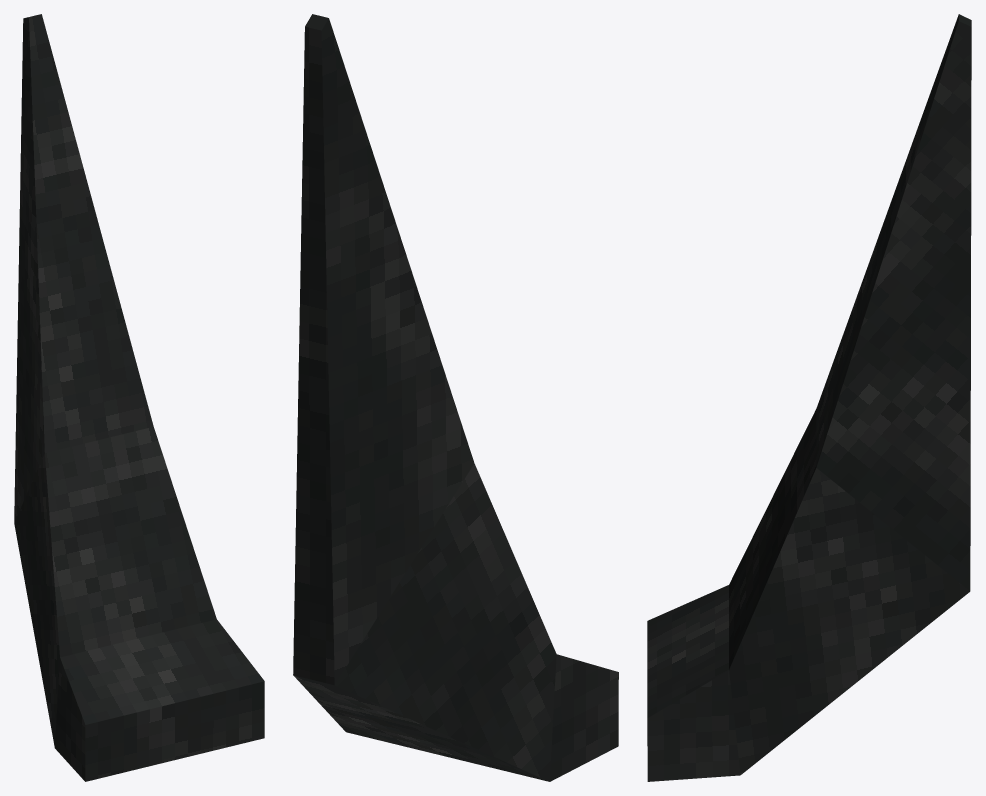
Rendered from pointy_spike_small.obj.
3 renders of one model, left to right at view 1: azimuth 30°, elevation 25°; view 2: azimuth 150°, elevation 25°; view 3: azimuth 270°, elevation 25°, orthographic. The views are drawn at different scales.
Visible parts, largest first — view 1: cuboid; view 2: cuboid; view 3: cuboid.
Part boxes in pixels (<box>): cuboid: <box>14,14,264,781</box>; cuboid: <box>293,14,618,781</box>; cuboid: <box>647,14,971,781</box>.
Bounding box in the file's own units: 0.875 × 2.99 × 1.23.
